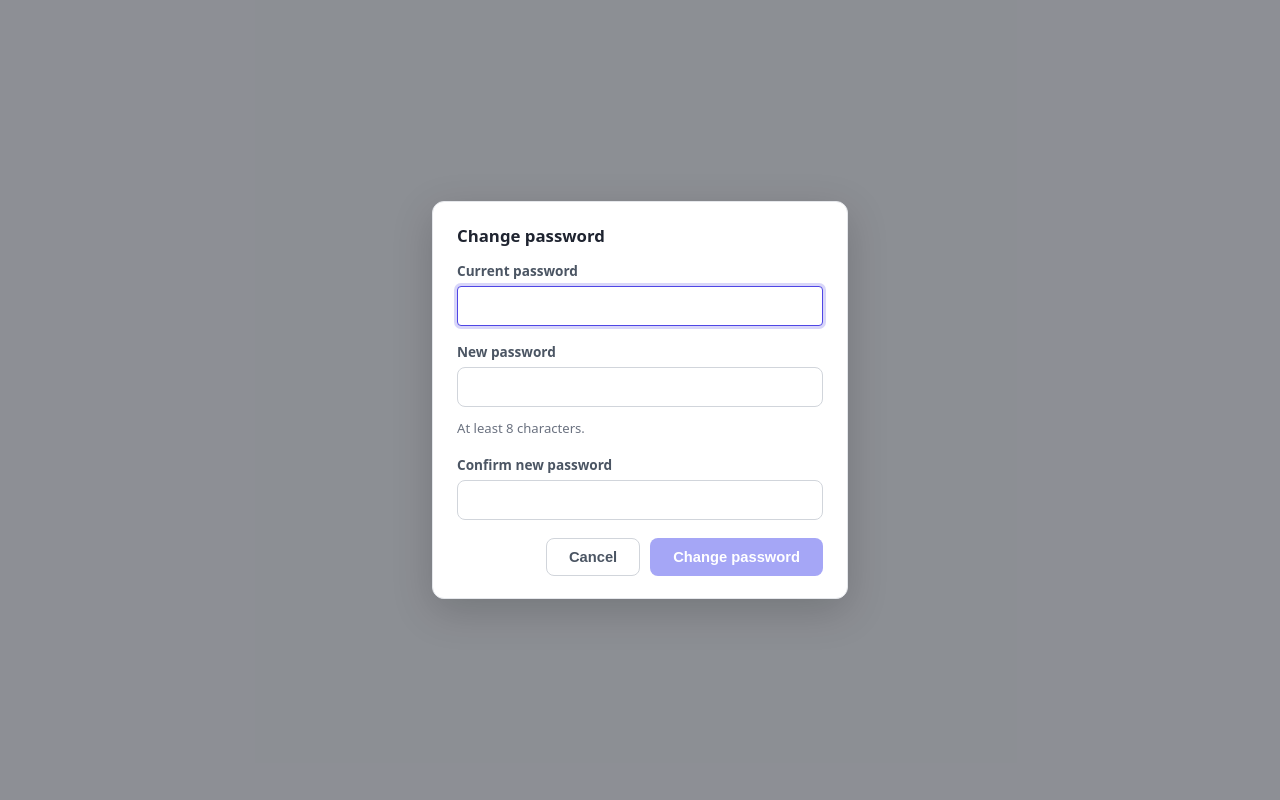
Test: ChangePasswordDialog › clears what was typed when it closes
Type "hunter2" into the password field labelled "Current password" at (640, 306), box top-left (457, 286), bottom-right (823, 326)
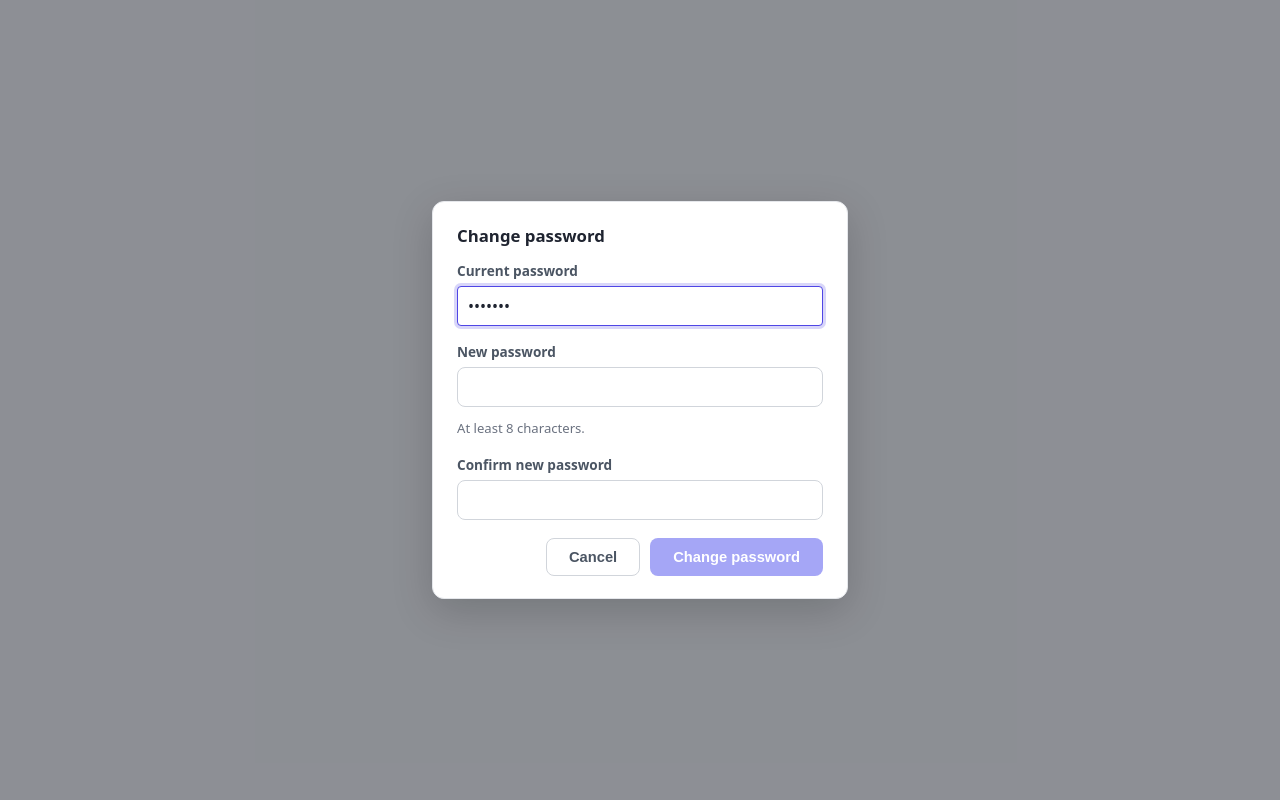
Type "correct-horse" into the password field labelled "New password" at (640, 388), box top-left (457, 368), bottom-right (823, 408)
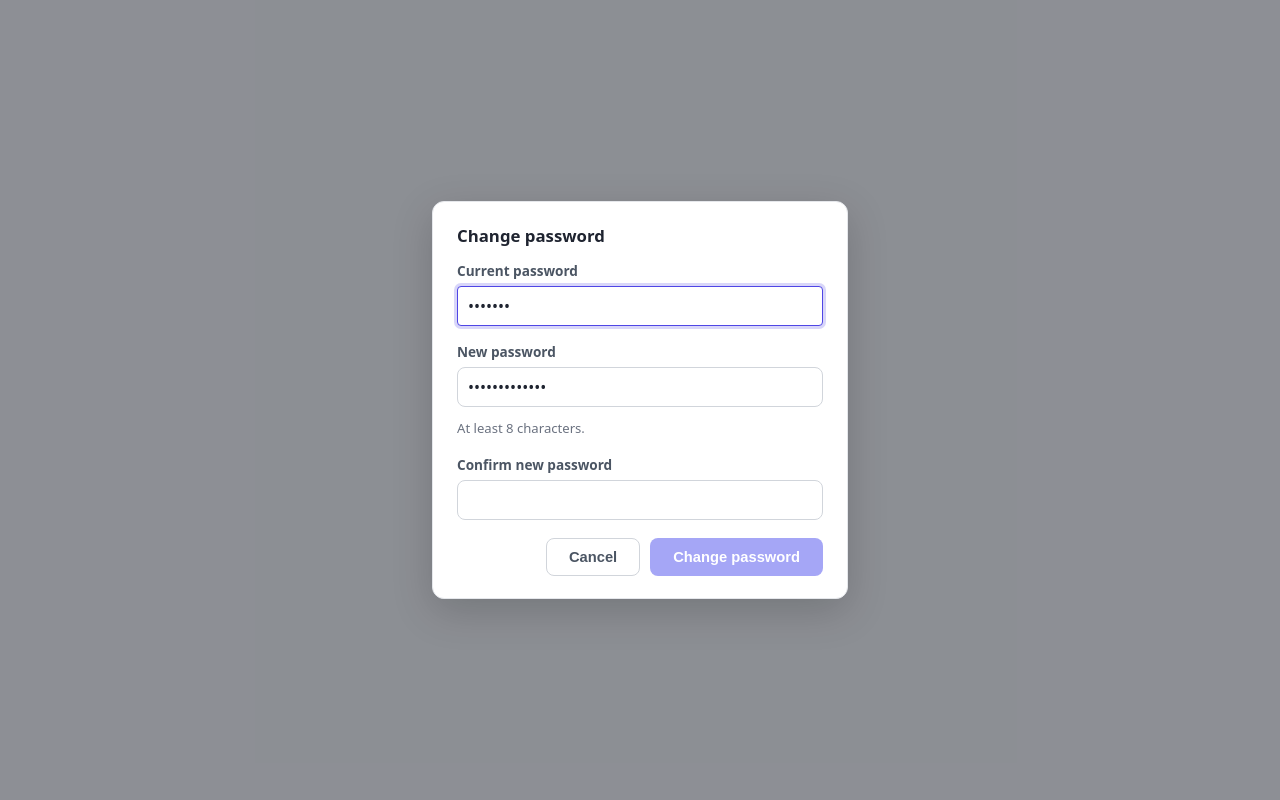
Type "correct-horse" into the password field labelled "Confirm new password" at (640, 500), box top-left (457, 480), bottom-right (823, 520)
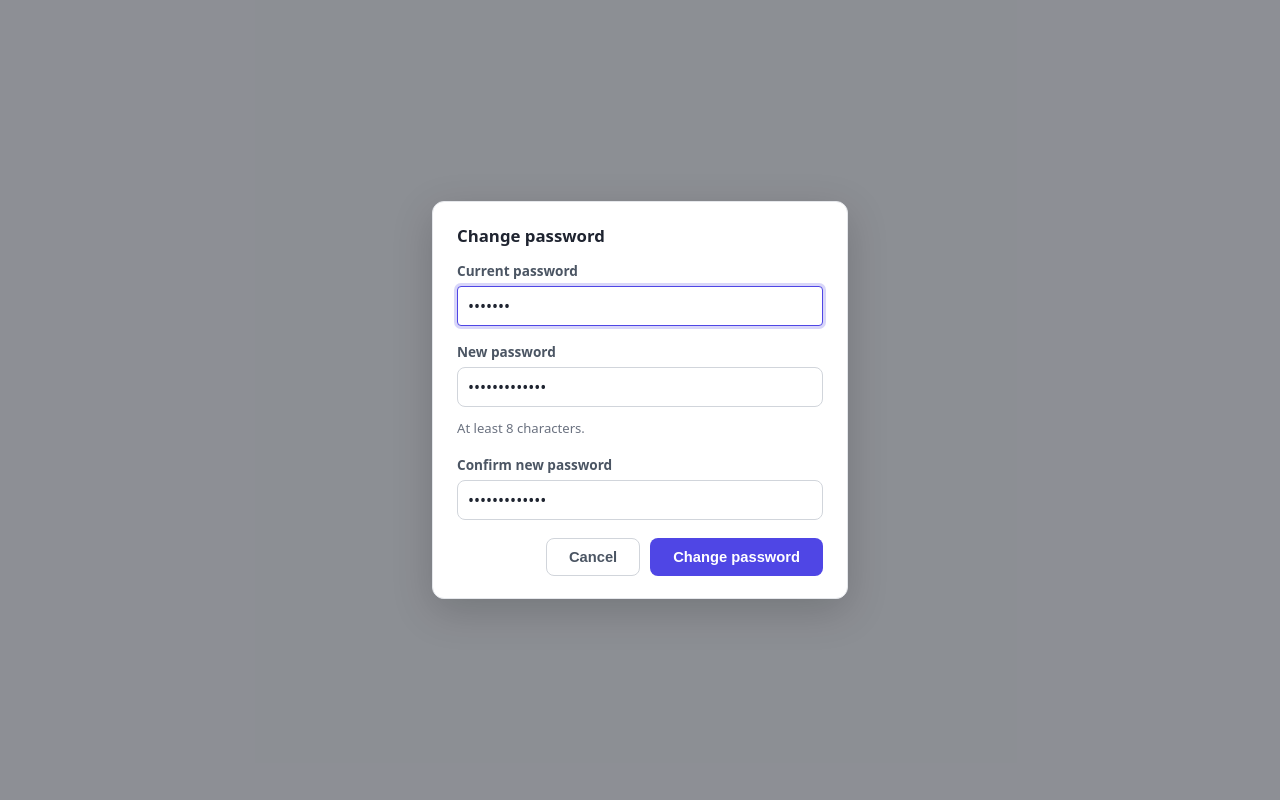
Click the button "Cancel" at (593, 556), box top-left (546, 538), bottom-right (640, 576)
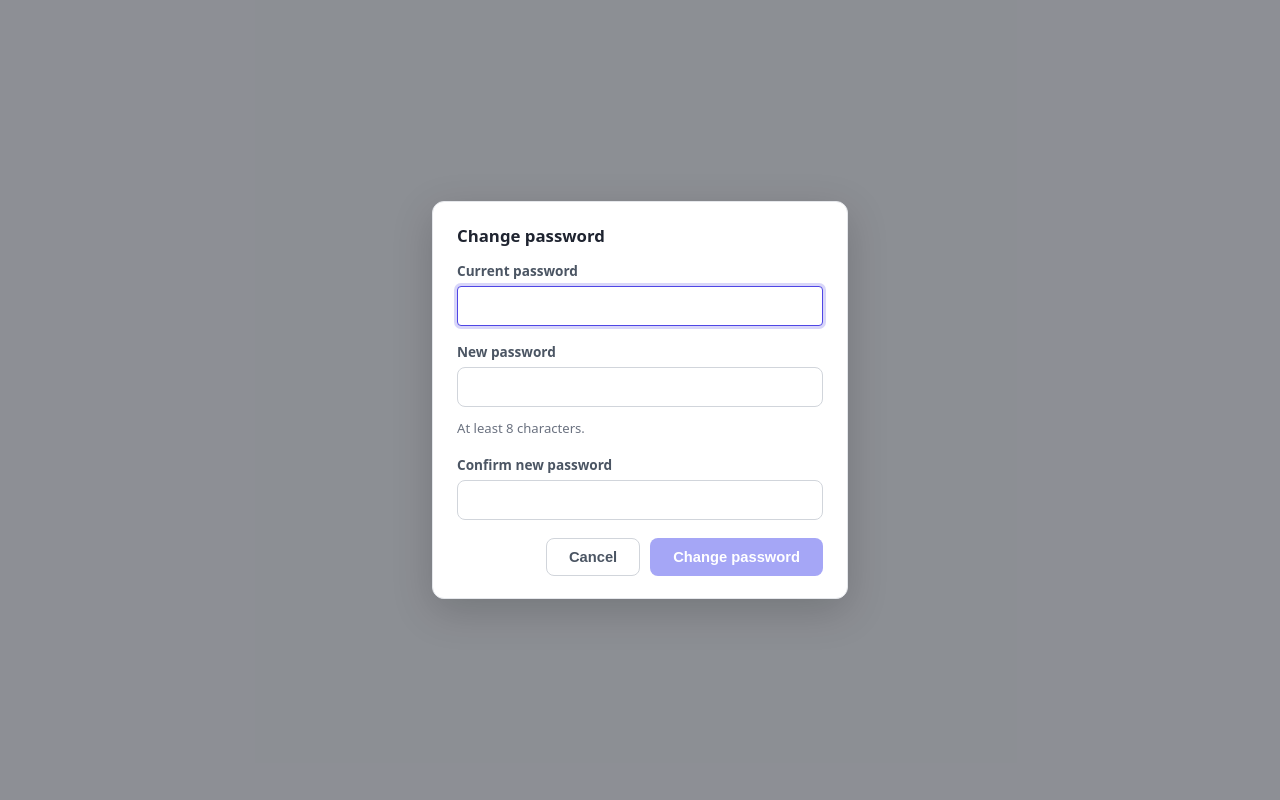
Now the password field labelled "Current password" is empty, box top-left (457, 286), bottom-right (823, 326)
